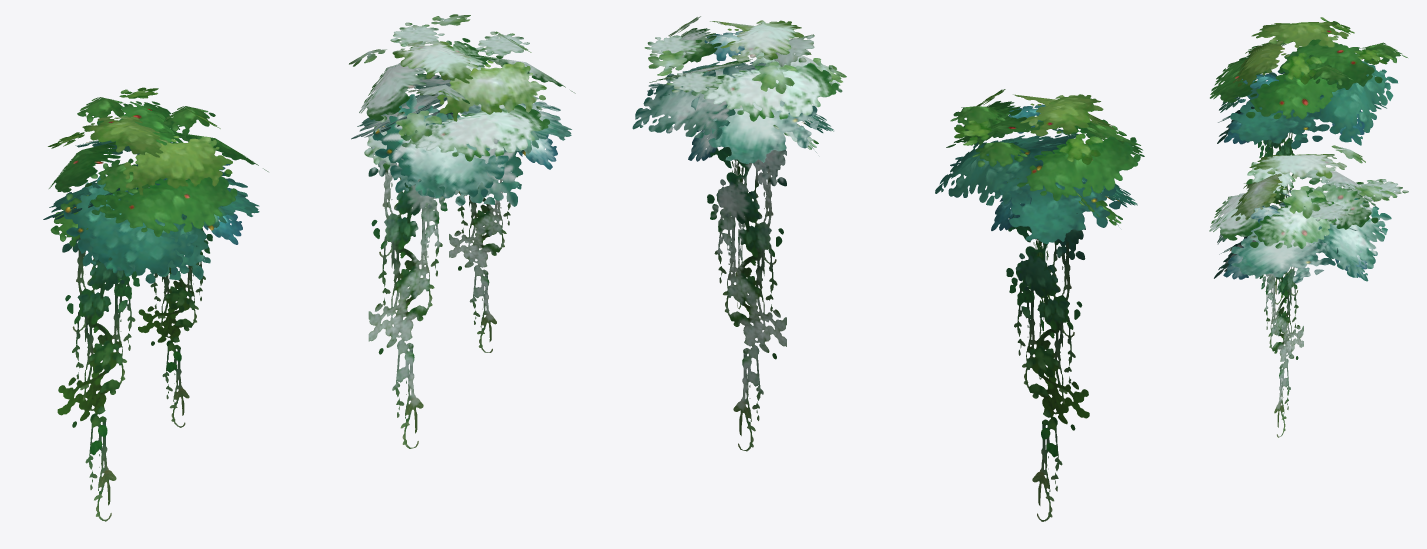
The model's file is ruyicao.FBX.
The picture shows the model from 3 angles, left to right: view 1: azimuth 30°, elevation 25°; view 2: azimuth 150°, elevation 25°; view 3: azimuth 270°, elevation 25°; orthographic projection. The views are drawn at different scales.
Visible parts, largest first — view 1: ruyicao1, ruyicao; view 2: ruyicao1, ruyicao; view 3: ruyicao1, ruyicao.
Boxes of the visible parts, box(x1,y1,x2,y2) form: ruyicao1: box(349, 14, 575, 448); ruyicao: box(43, 87, 268, 521); ruyicao1: box(632, 16, 846, 451); ruyicao: box(935, 89, 1144, 521); ruyicao1: box(1209, 145, 1408, 437); ruyicao: box(1210, 17, 1407, 304).
Size of the model in its own units: 438 by 170 by 324.
